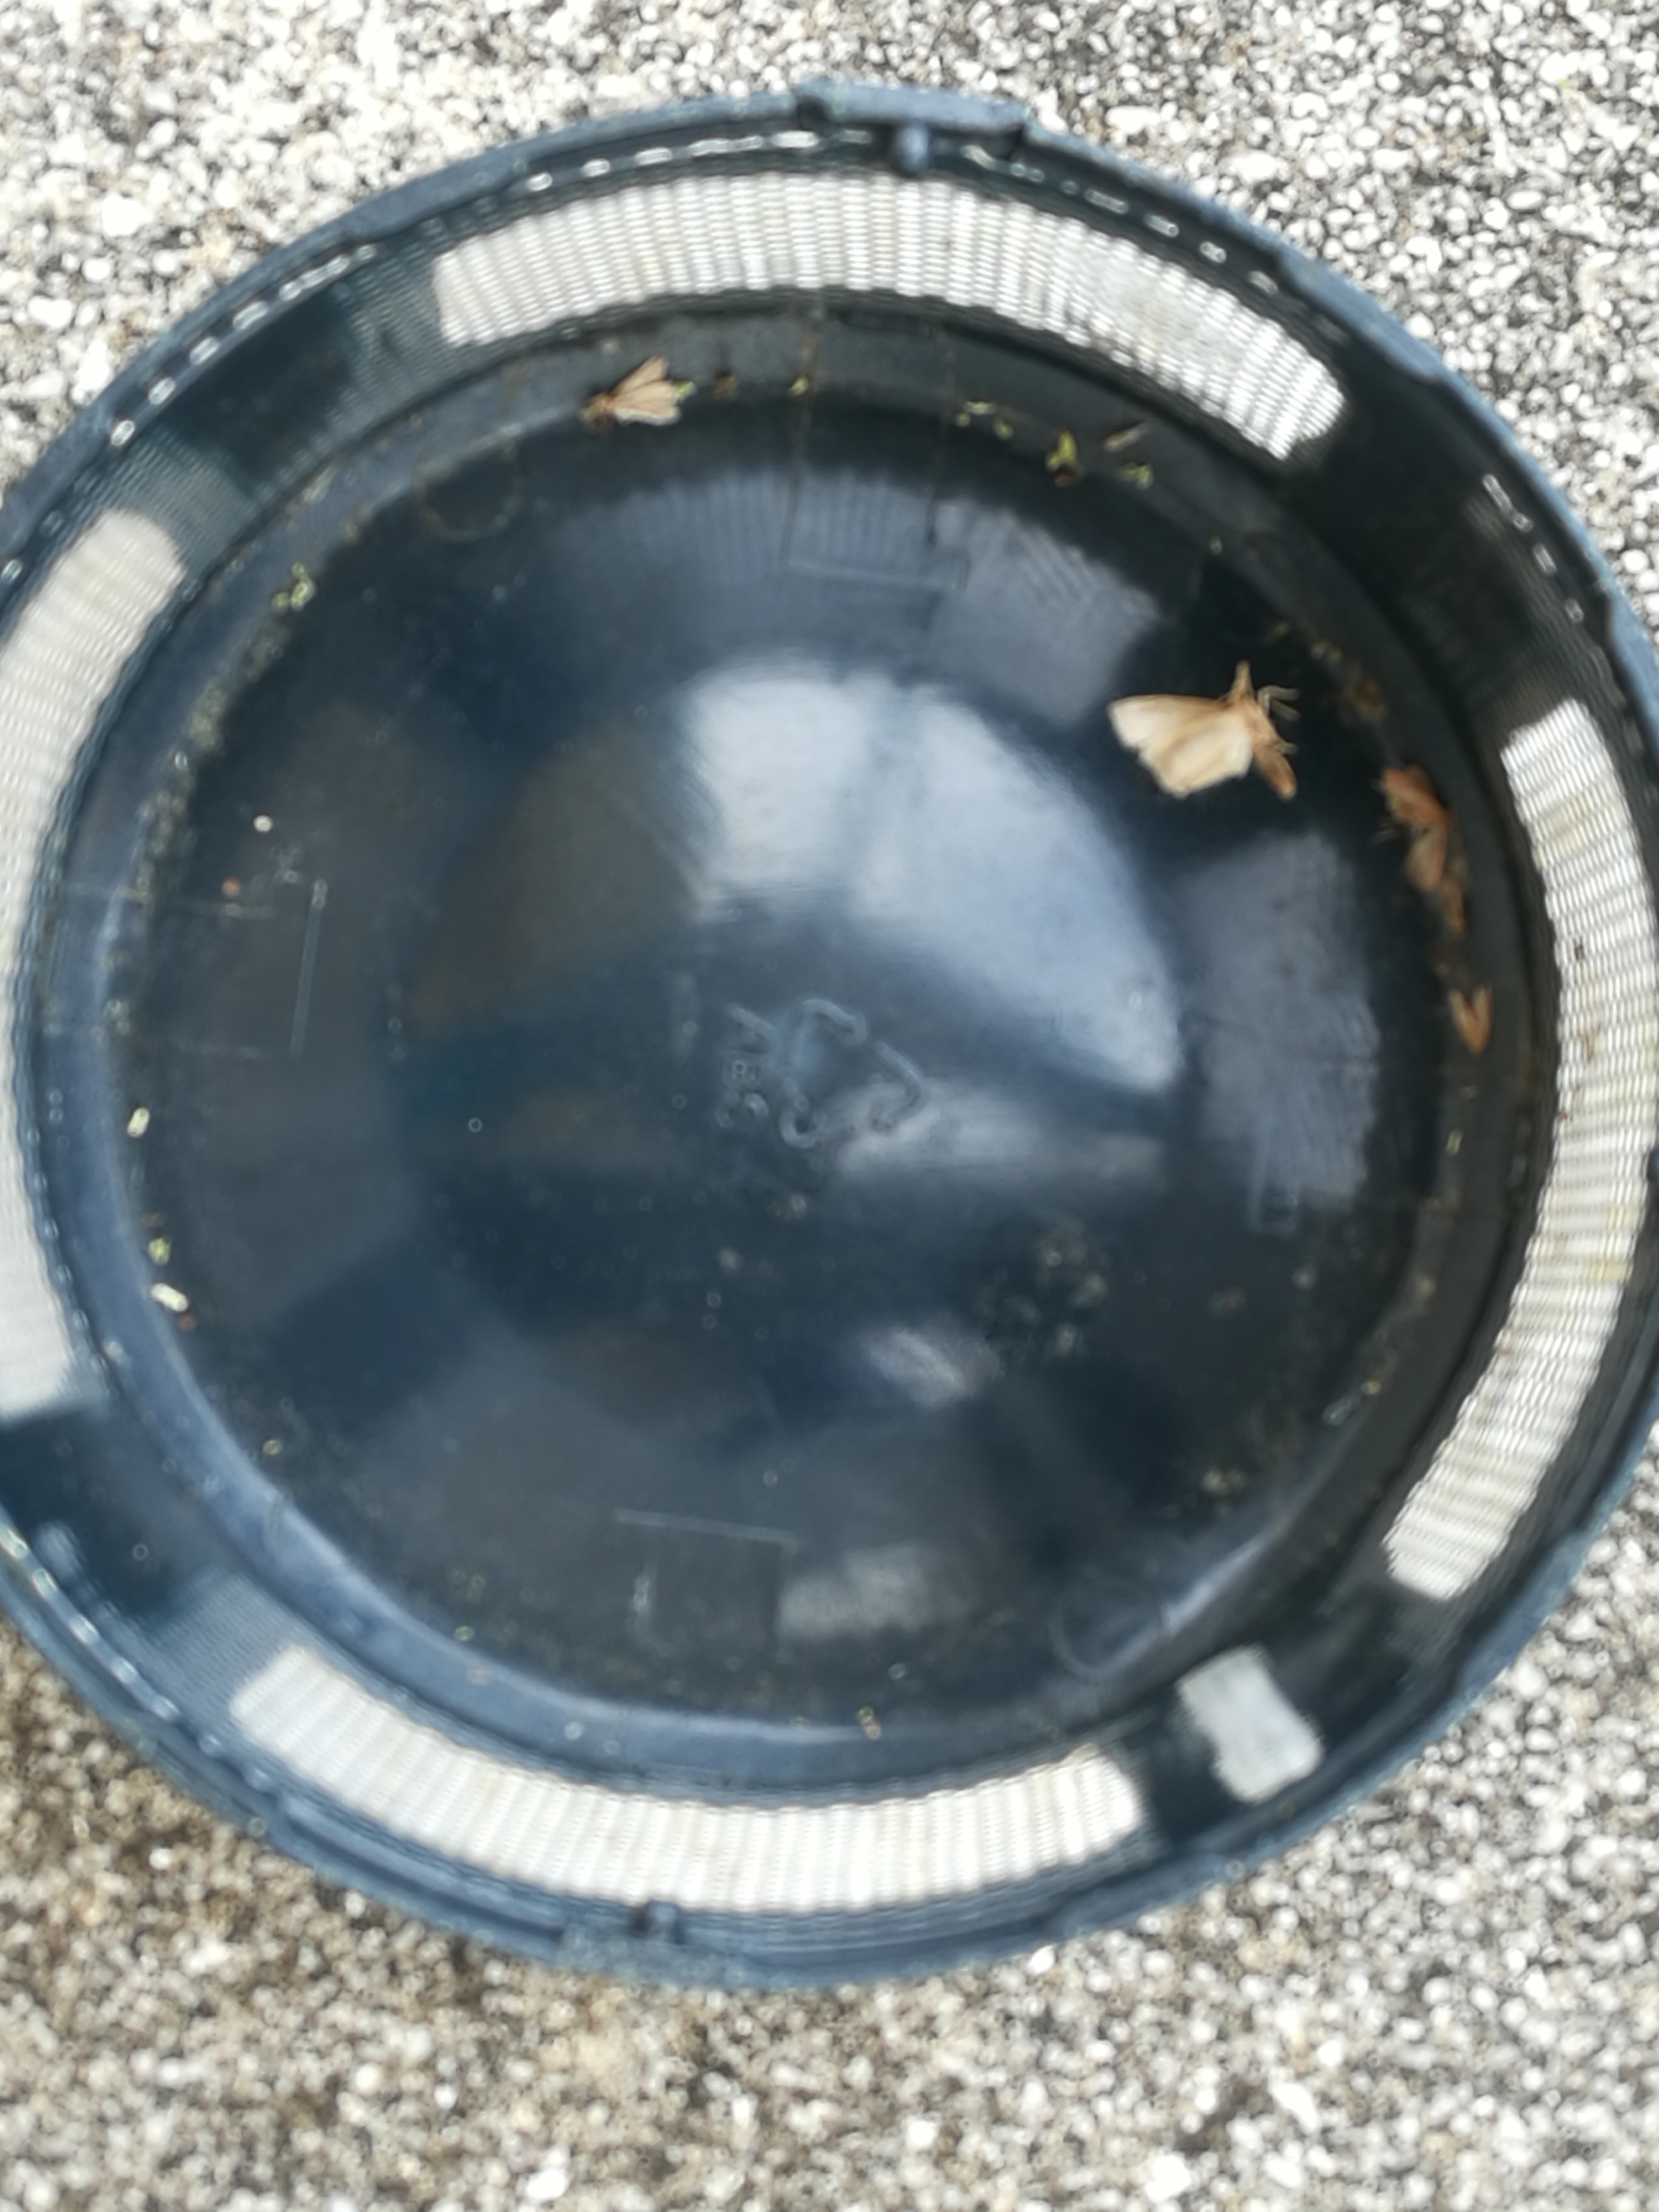mosquito: (1445, 873, 1466, 934)
moth: (1112, 664, 1297, 801), (584, 352, 694, 427), (1384, 763, 1446, 890), (1450, 989, 1490, 1055)
